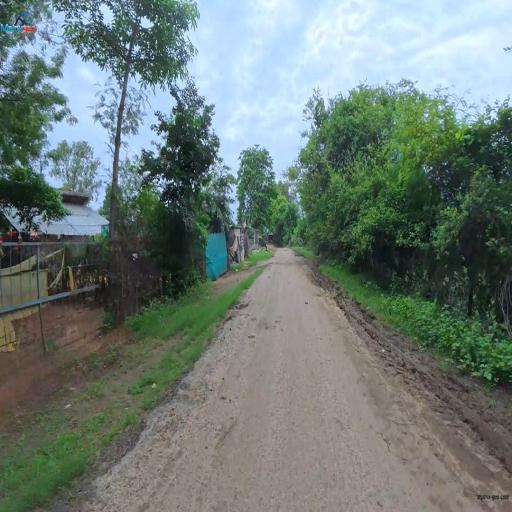edge_damage: (123, 391, 166, 453)
